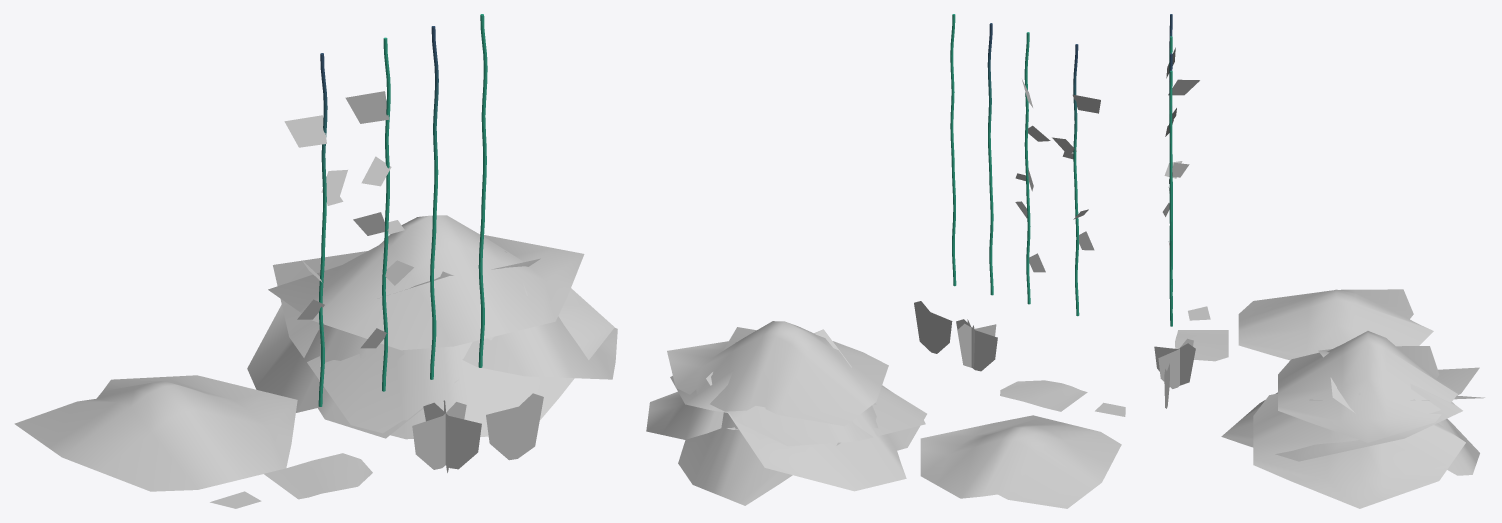
Rendered from Foliage.fbx.
3 views of the same model, side by side, from view 1: azimuth 30°, elevation 25°; view 2: azimuth 150°, elevation 25°; view 3: azimuth 270°, elevation 25° (orthographic). The views are drawn at different scales.
Visible parts, largest first — view 1: Bush, LeavesPile, Vine2, WeirdFungusColony, Vine, Leaves, WeirdFungus, VineBald, VineBald2; view 2: Bush, LeavesPile, Vine, Leaves, Vine2, WeirdFungusColony, WeirdFungus, VineBald, VineBald2; view 3: Bush, LeavesPile, WeirdFungusColony, Leaves, VineBald2, Vine2, Vine.
Part boxes in pixels (bbox=[...]): Bush: bbox=[247, 215, 617, 439]; LeavesPile: bbox=[14, 375, 297, 491]; Vine2: bbox=[345, 37, 413, 391]; WeirdFungusColony: bbox=[412, 400, 481, 472]; Vine: bbox=[284, 53, 347, 406]; Leaves: bbox=[264, 453, 372, 499]; WeirdFungus: bbox=[486, 393, 543, 460]; VineBald: bbox=[430, 26, 438, 379]; VineBald2: bbox=[478, 14, 487, 367]; Bush: bbox=[646, 321, 926, 505]; LeavesPile: bbox=[920, 415, 1121, 508]; Vine: bbox=[1052, 44, 1100, 316]; Leaves: bbox=[1000, 380, 1087, 411]; Vine2: bbox=[1015, 32, 1050, 304]; WeirdFungusColony: bbox=[956, 319, 997, 371]; WeirdFungus: bbox=[914, 301, 952, 353]; VineBald: bbox=[987, 23, 993, 295]; VineBald2: bbox=[950, 14, 956, 286]; Bush: bbox=[1221, 331, 1484, 508]; LeavesPile: bbox=[1238, 289, 1433, 360]; WeirdFungusColony: bbox=[1154, 338, 1195, 388]; Leaves: bbox=[1175, 330, 1228, 361]; VineBald2: bbox=[1169, 70, 1172, 326]; Vine2: bbox=[1162, 36, 1199, 291]; Vine: bbox=[1164, 14, 1182, 269].
Bounding box in the file's own units: 405 × 336 × 281.
